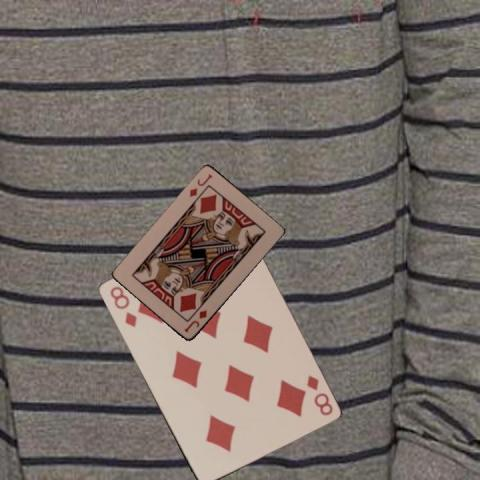8d: (106, 283, 138, 329), (303, 372, 334, 417)
Jd: (180, 307, 208, 334), (187, 170, 214, 198)
